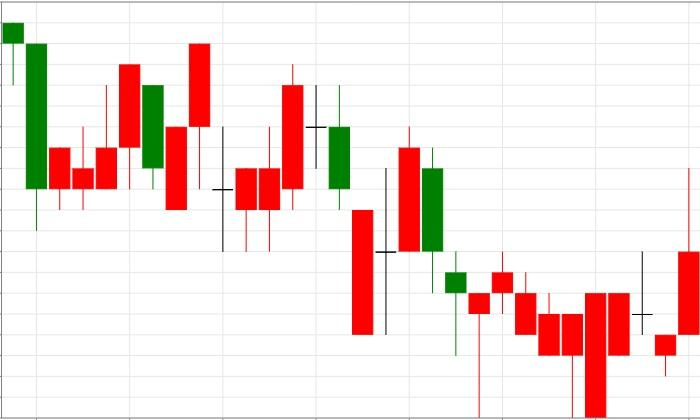hammer_rise: (423, 147, 583, 418)
